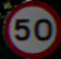Speed limit: (7, 1, 58, 54)
